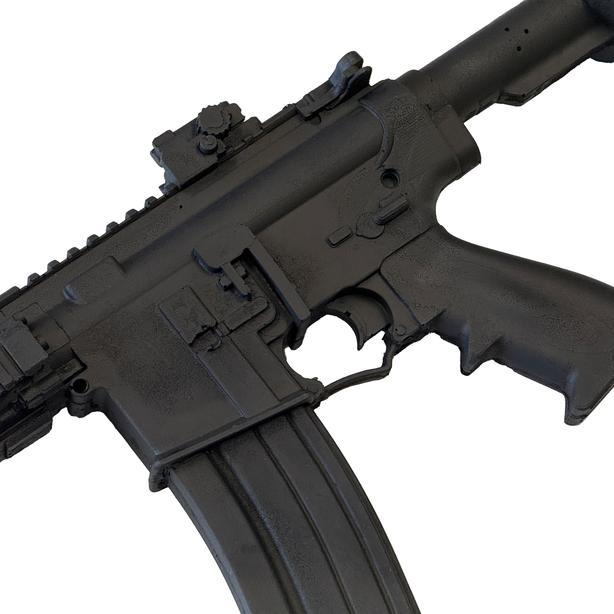Firearm: (0, 13, 611, 614)
